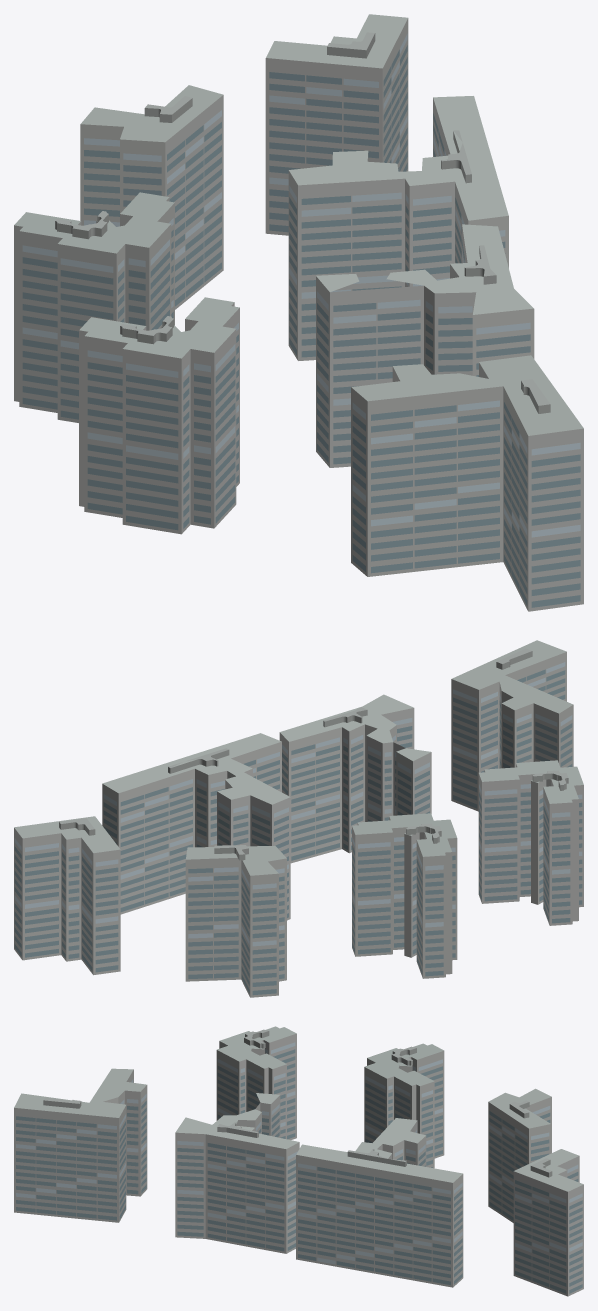
The model's file is apt-a13410012.glb.
3 renders of one model, top to bottom at view 1: azimuth 30°, elevation 25°; view 2: azimuth 150°, elevation 25°; view 3: azimuth 270°, elevation 25°, orthographic. The views are drawn at different scales.
Parts seen in each view (by area): view 1: apt-a13410012; view 2: apt-a13410012; view 3: apt-a13410012.
Part boxes in pixels (left/top/right/bottom): apt-a13410012: left=14, top=14, right=583, bottom=611; apt-a13410012: left=14, top=640, right=583, bottom=997; apt-a13410012: left=14, top=1026, right=583, bottom=1296.
Bounding box in the file's own units: 152 × 47 × 221.
